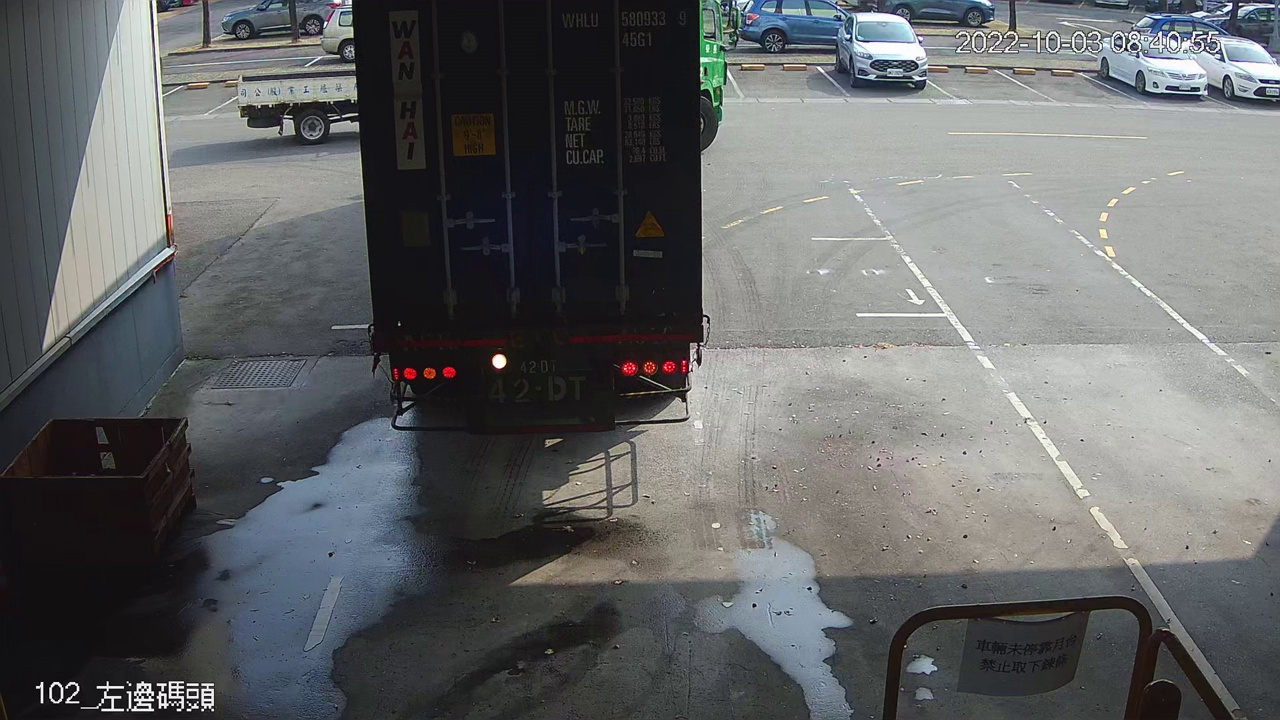container: (556, 4, 691, 55)
